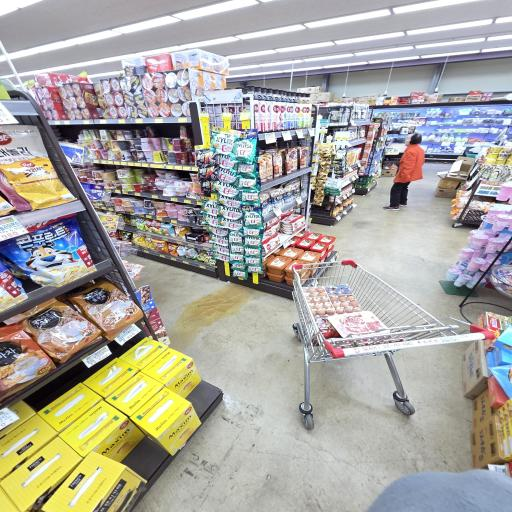fully_cart: (282, 254, 504, 433)
